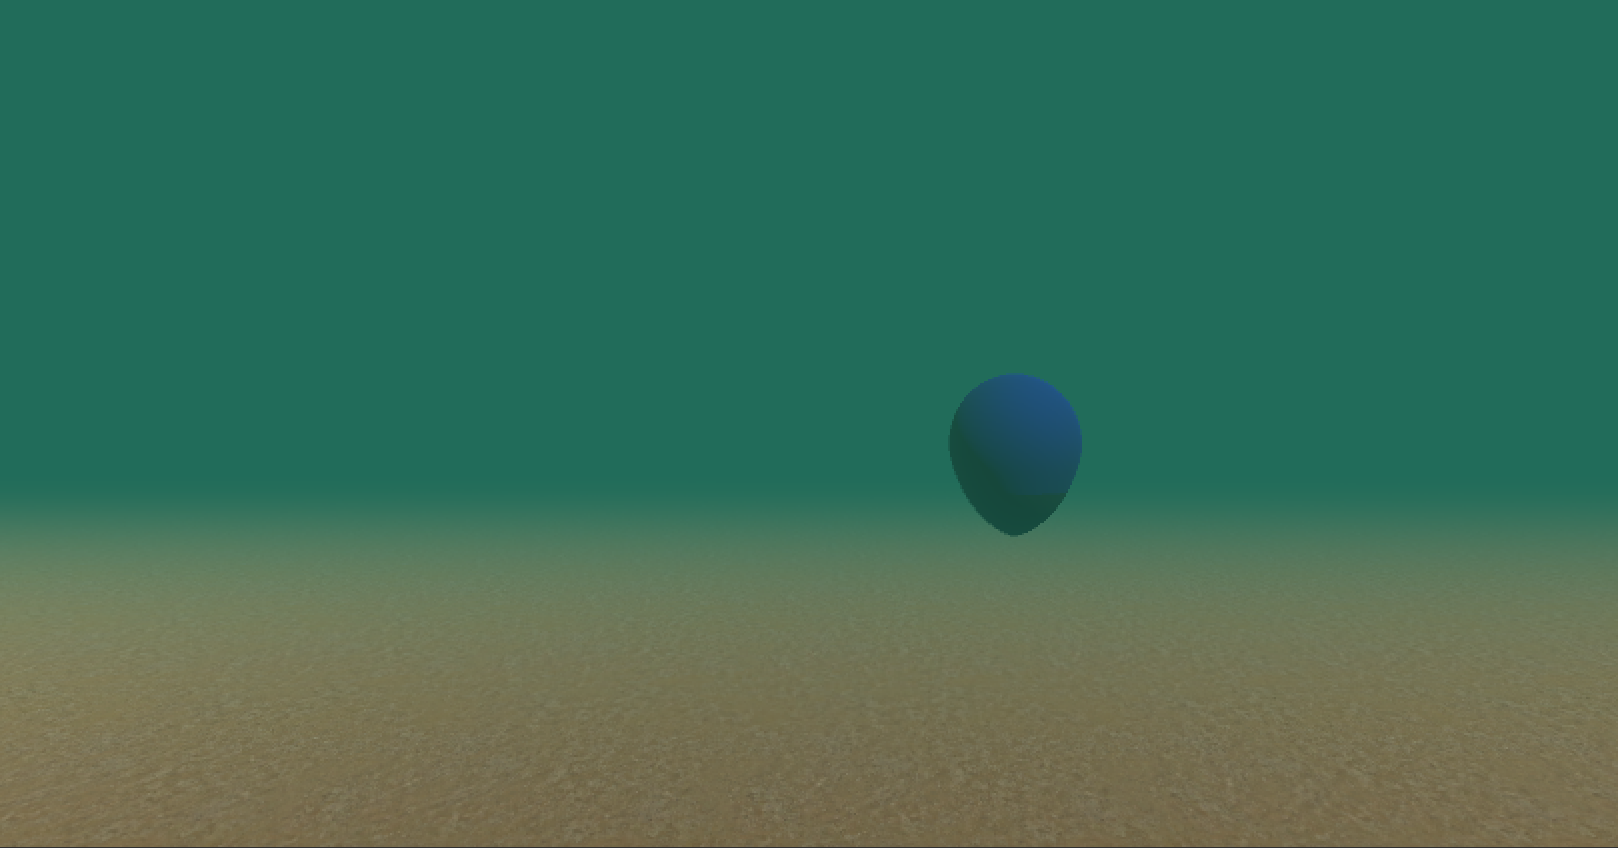blue buoy: (945, 369, 1084, 539)
